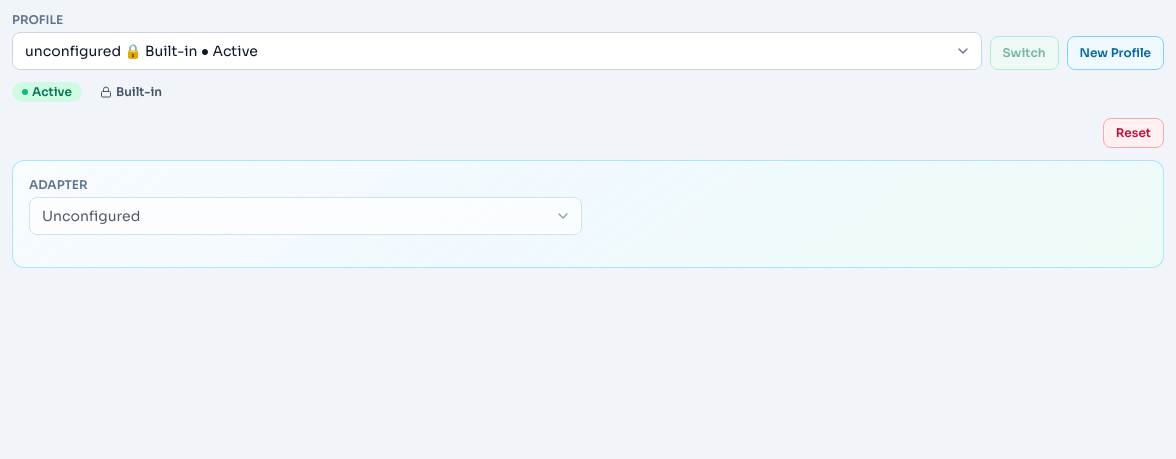
PlatformConfigSection with ProfileSelector › updates form fields when switching to a different profile
The width and height of the screenshot is (1176, 459).
Select "my-custom_rest" in the dropdown with test id "profile-dropdown" at (497, 51), box [12,32,982,70]
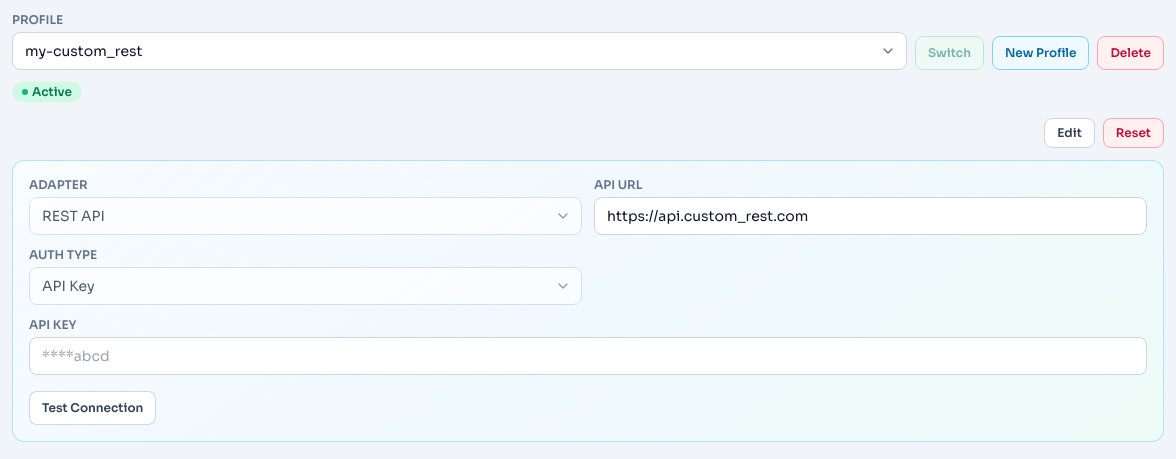
Now the dropdown labelled "Adapter" shows "REST API", box [29,197,582,235]
